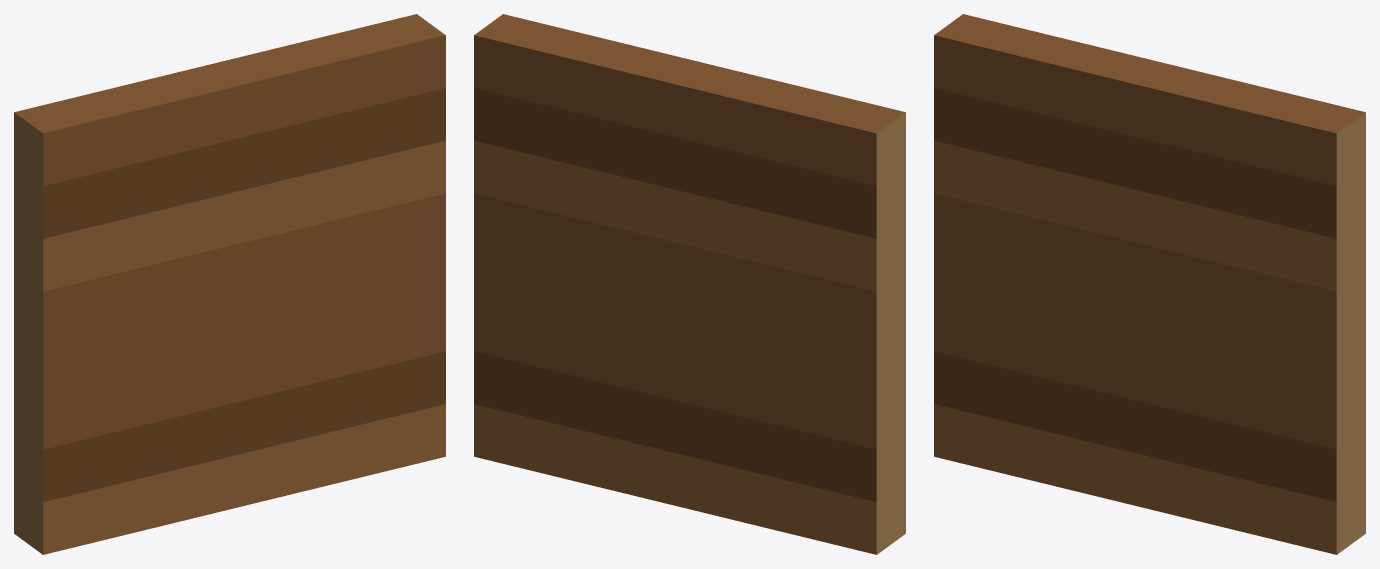
The model's file is piece_wall_voxel.fbx.
3 views of the same model, side by side, from view 1: azimuth 30°, elevation 25°; view 2: azimuth 150°, elevation 25°; view 3: azimuth 330°, elevation 25° (orthographic).
Parts seen in each view (by area): view 1: piece_wall_voxel; view 2: piece_wall_voxel; view 3: piece_wall_voxel.
Part boxes in pixels (<box>): piece_wall_voxel: <box>14,14,445,554</box>; piece_wall_voxel: <box>474,14,905,554</box>; piece_wall_voxel: <box>934,14,1365,554</box>.
Bounding box in the file's own units: 2 × 2 × 0.25.
